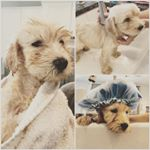puppy: (5, 13, 75, 87), (102, 1, 146, 42), (100, 102, 134, 135)
